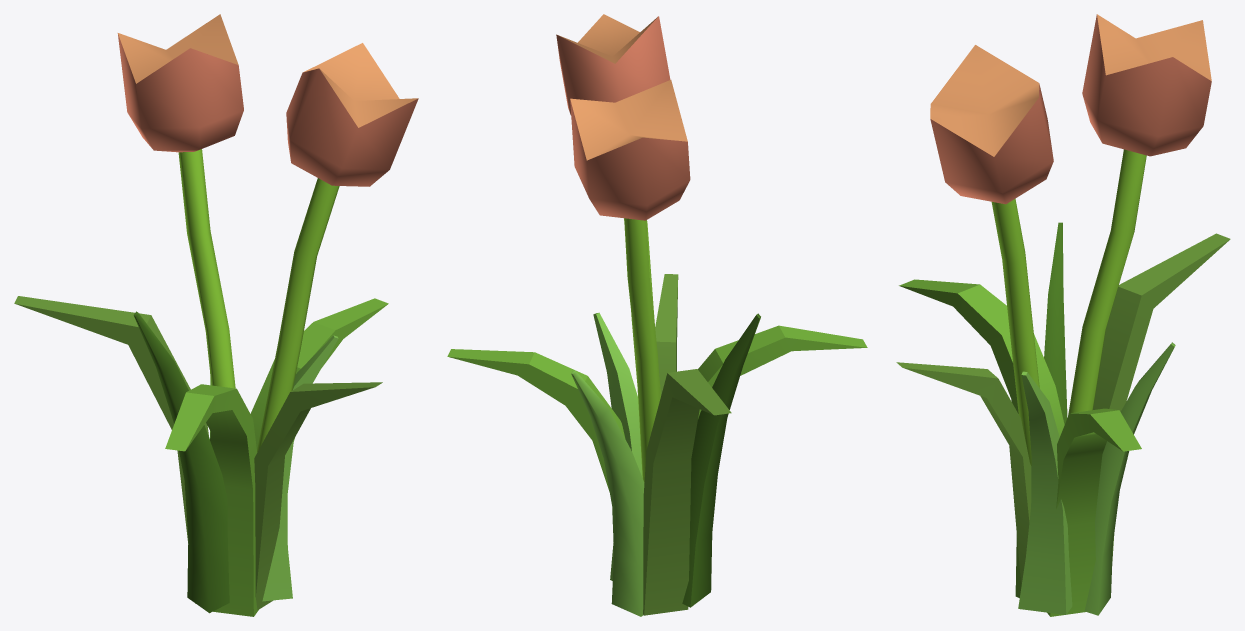
File: Tulip_Orange_2.fbx
The picture shows the model from 3 angles, left to right: view 1: azimuth 30°, elevation 25°; view 2: azimuth 150°, elevation 25°; view 3: azimuth 270°, elevation 25°; orthographic projection. The views are drawn at different scales.
Parts seen in each view (by area): view 1: Cylinder.683, Cube.180, Cylinder.680, Cube.184, Cube.183, Cylinder.679, Cylinder.684, Cube.182, Cylinder.681, Cylinder.682, Cube.181, Cube.185; view 2: Cube.182, Cylinder.683, Cube.179, Cube.184, Cylinder.680, Cylinder.682, Cylinder.684, Cube.181, Cube.180, Cube.185, Cube.183, Cylinder.681; view 3: Cylinder.683, Cube.185, Cube.181, Cube.182, Cylinder.681, Cylinder.680, Cylinder.684, Cube.180, Cube.183, Cylinder.679, Cube.179, Cylinder.682 (+1 smaller).
Part boxes in pixels (x1,y1,x2,y2): Cylinder.683: (117,33,243,152); Cube.180: (165,384,258,616); Cylinder.680: (286,68,418,186); Cube.184: (133,311,229,613); Cube.183: (254,382,382,609); Cylinder.679: (257,178,339,451); Cylinder.684: (178,149,235,388); Cube.182: (14,296,209,603); Cylinder.681: (303,43,417,127); Cylinder.682: (118,14,238,83); Cube.181: (250,298,388,449); Cube.185: (262,335,338,601); Cube.182: (643,369,731,615); Cylinder.683: (570,100,690,220); Cube.179: (571,370,644,616); Cube.184: (682,313,760,607); Cylinder.680: (556,16,670,115); Cylinder.682: (570,80,687,160); Cylinder.684: (624,218,660,482); Cube.181: (447,349,625,491); Cube.180: (698,325,867,418); Cube.185: (593,312,642,580); Cube.183: (655,274,678,395); Cylinder.681: (558,14,657,63); Cylinder.683: (1082,14,1211,156); Cube.185: (1018,371,1072,614); Cube.181: (1047,408,1141,616); Cube.182: (1093,233,1230,560); Cylinder.681: (930,45,1039,156); Cylinder.680: (930,84,1053,204); Cylinder.684: (1068,149,1146,415); Cube.180: (899,279,1064,597); Cube.183: (896,362,1031,584); Cylinder.679: (991,198,1039,465); Cube.179: (1084,342,1175,615); Cylinder.682: (1097,14,1211,80).
Size of the model in its own units: 88.36 by 141 by 74.38.
